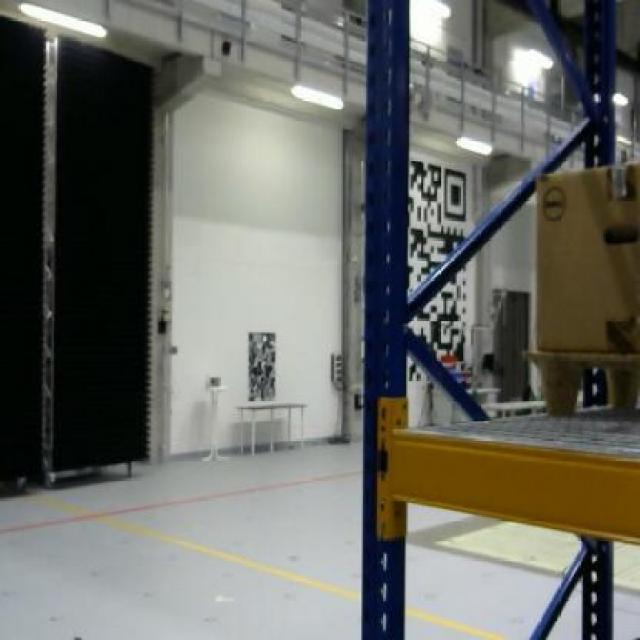box: (536, 160, 639, 349)
